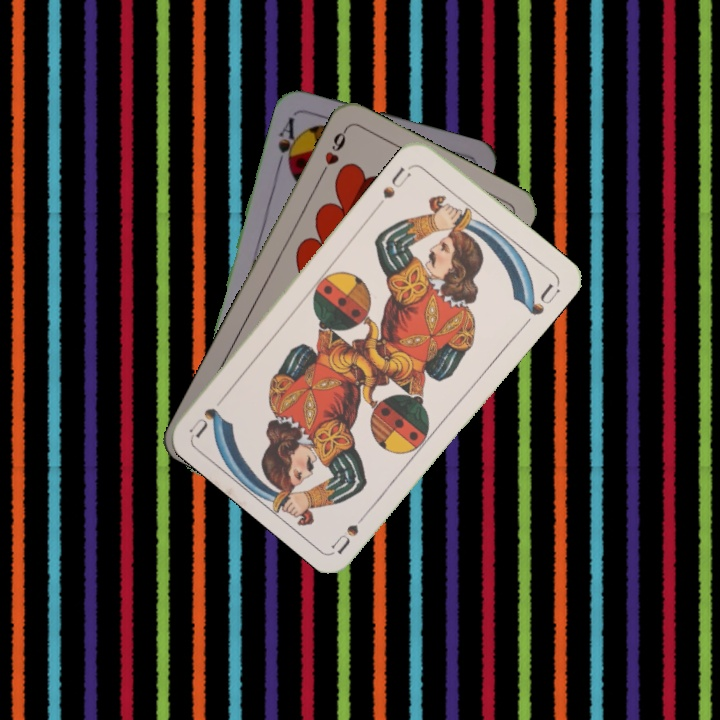H9: (316, 124, 350, 179)
SA: (273, 113, 303, 172)
SU: (328, 503, 374, 556), (372, 161, 416, 210)
